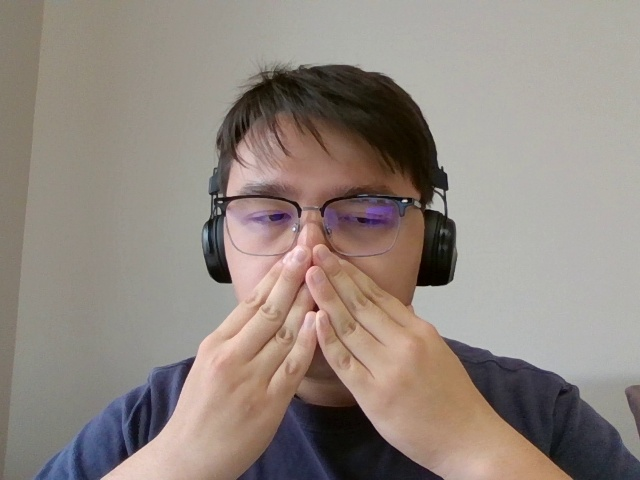Thanks: (135, 239, 548, 467)
